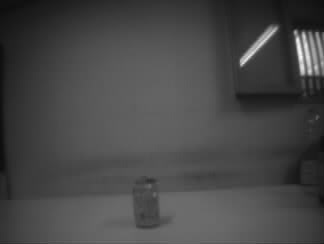Tin can: (132, 175, 161, 229)
